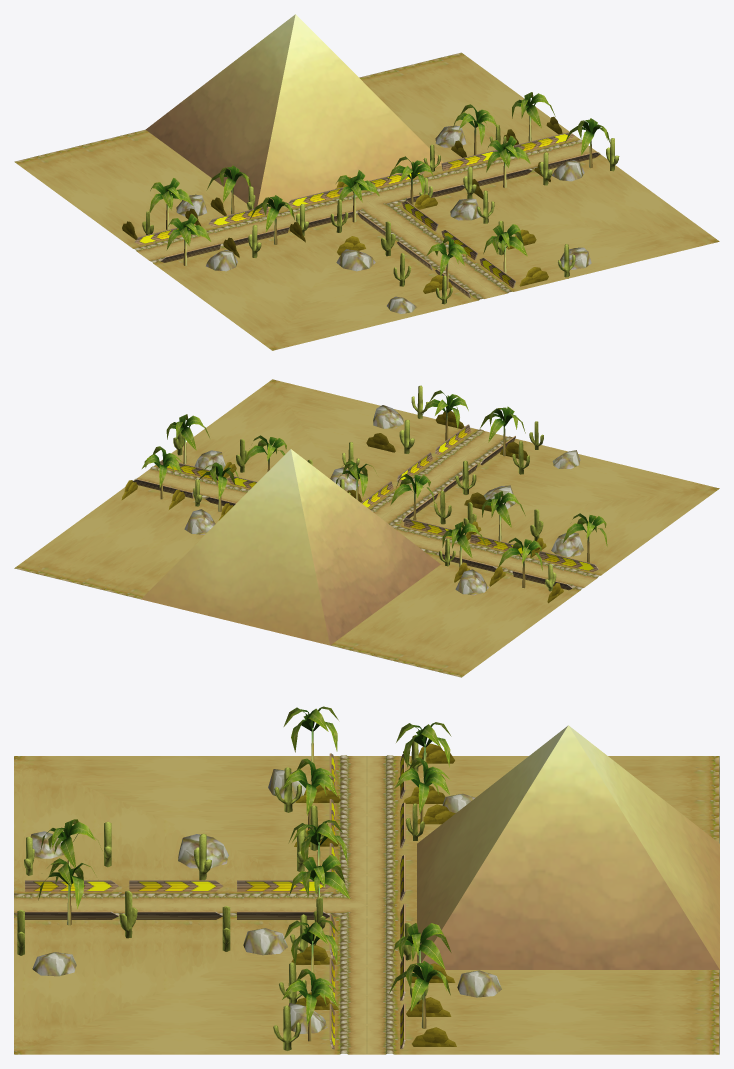
The model's file is DesertRoad02_Both.FBX.
3 views of the same model, one above another, from view 1: azimuth 30°, elevation 25°; view 2: azimuth 150°, elevation 25°; view 3: azimuth 270°, elevation 25° (orthographic). The views are drawn at different scales.
Parts seen in each view (by area): view 1: Road, Pyramid, PalmTree (×12), Stone (×2); view 2: Road, Pyramid, PalmTree (×12), Stone (×4), Fence; view 3: Road, Pyramid, PalmTree (×12), Stone (×6), Fence (×6), Bush.
Boxes of the visible parts, bbox=[...] form: Road: bbox=[14, 52, 719, 350]; Pyramid: bbox=[145, 14, 443, 208]; PalmTree (×12): bbox=[149, 92, 610, 288]; Stone (×2): bbox=[336, 198, 480, 271]; Road: bbox=[14, 379, 719, 677]; Pyramid: bbox=[141, 449, 440, 645]; PalmTree (×12): bbox=[142, 390, 607, 588]; Stone (×4): bbox=[184, 405, 583, 595]; Fence: bbox=[538, 551, 598, 571]; Road: bbox=[14, 755, 719, 1054]; Pyramid: bbox=[417, 725, 719, 969]; PalmTree (×12): bbox=[38, 706, 451, 1041]; Stone (×6): bbox=[30, 831, 501, 1033]; Fence (×6): bbox=[25, 880, 330, 919]; Bush: bbox=[412, 1027, 456, 1046].
Bounding box in the file's own units: 10000 × 2936 × 10000.
